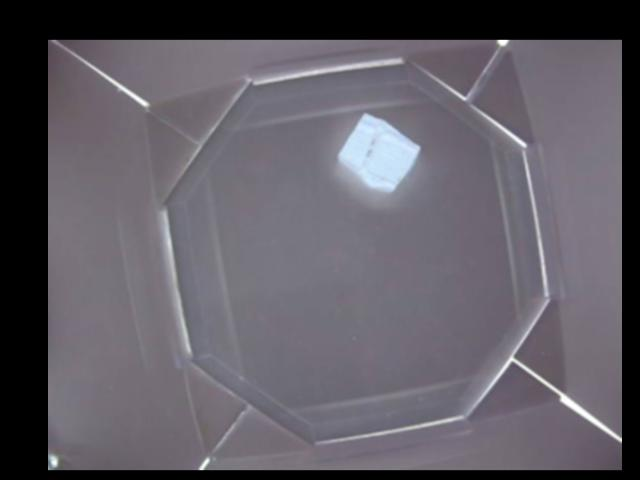China: (336, 114, 419, 189)
